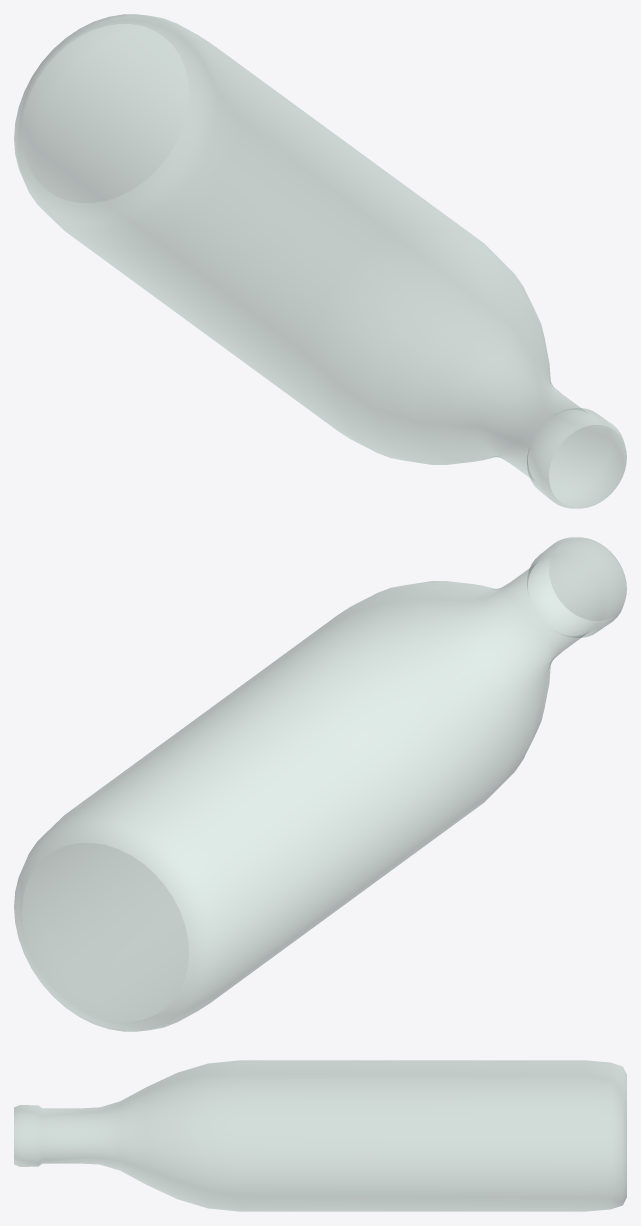
File: bottle.obj
The picture shows the model from 3 angles, top to bottom: view 1: azimuth 30°, elevation 25°; view 2: azimuth 150°, elevation 25°; view 3: azimuth 270°, elevation 25°; orthographic projection. The views are drawn at different scales.
Parts seen in each view (by area): view 1: Bottle; view 2: Bottle; view 3: Bottle.
Part boxes in pixels (x1,y1,x2,y2): Bottle: (14,14,626,508); Bottle: (14,537,626,1031); Bottle: (14,1060,626,1211).
Size of the model in its own units: 0.074 by 0.074 by 0.3.
